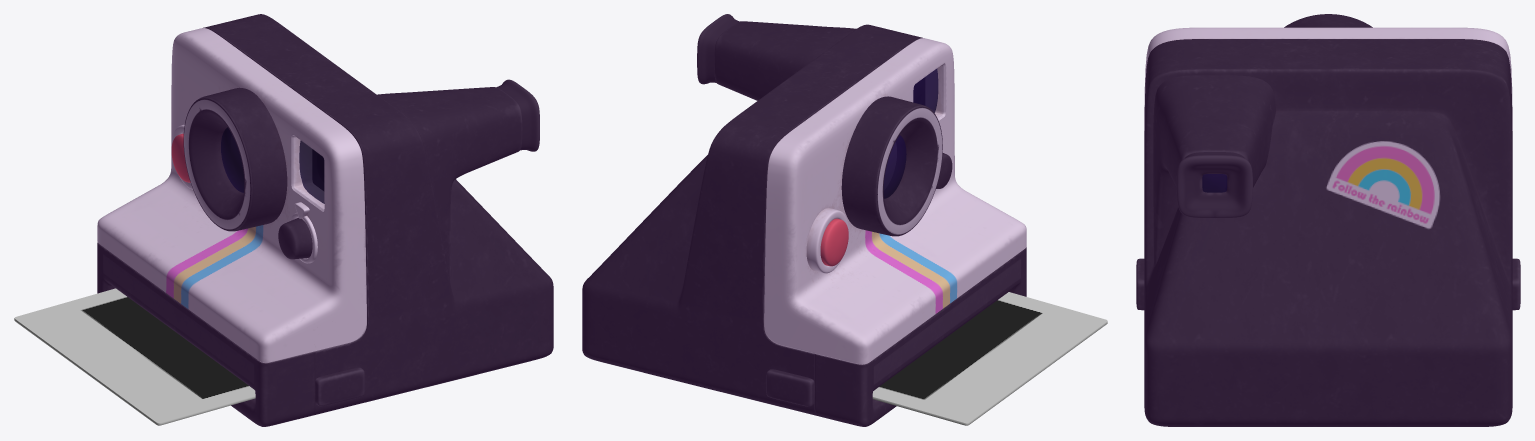
The picture shows the model from 3 angles, left to right: view 1: azimuth 30°, elevation 25°; view 2: azimuth 150°, elevation 25°; view 3: azimuth 270°, elevation 25°; orthographic projection. The views are drawn at different scales.
Visible parts, largest first — view 1: Polaroid_01; view 2: Polaroid_01; view 3: Polaroid_01.
Boxes of the visible parts, x1=… form: Polaroid_01: x1=14, y1=14, x2=553, y2=426; Polaroid_01: x1=582, y1=14, x2=1107, y2=426; Polaroid_01: x1=1136, y1=14, x2=1520, y2=426.
Bounding box in the file's own units: 71.66 × 47.07 × 56.27.
3 materials, 2 textured.
